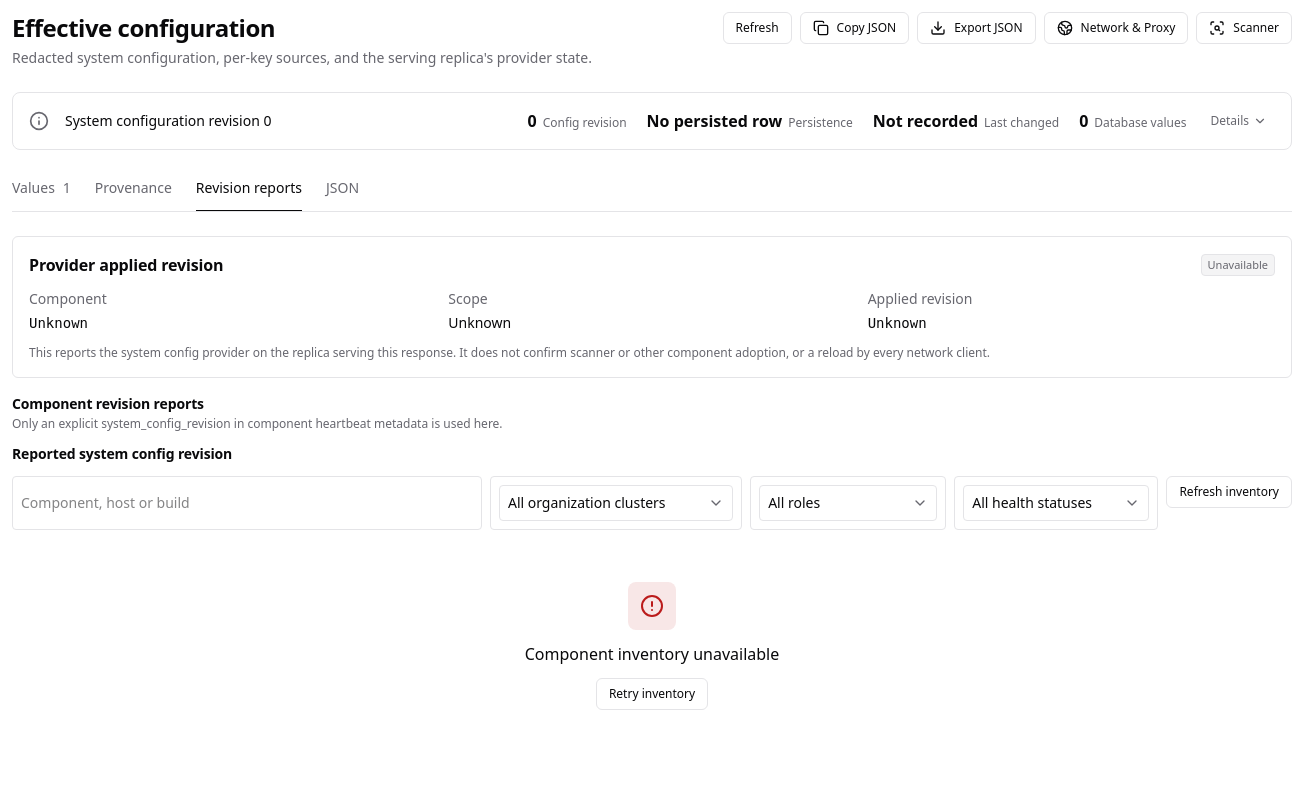
Scenario: reports missing provenance and failed component inventory as unknown or unavailable
This screenshot has width=1304, height=812.
Expected: the element with test id "effective-config-provider-applied" shows "Unavailable", [1208,257,1268,272]
Expected: the element with test id "effective-config-applied-revisions" shows "unavailable", [525,643,779,665]
Press the mouse on the tab "Provenance" at (133, 193), box [95,174,172,212]
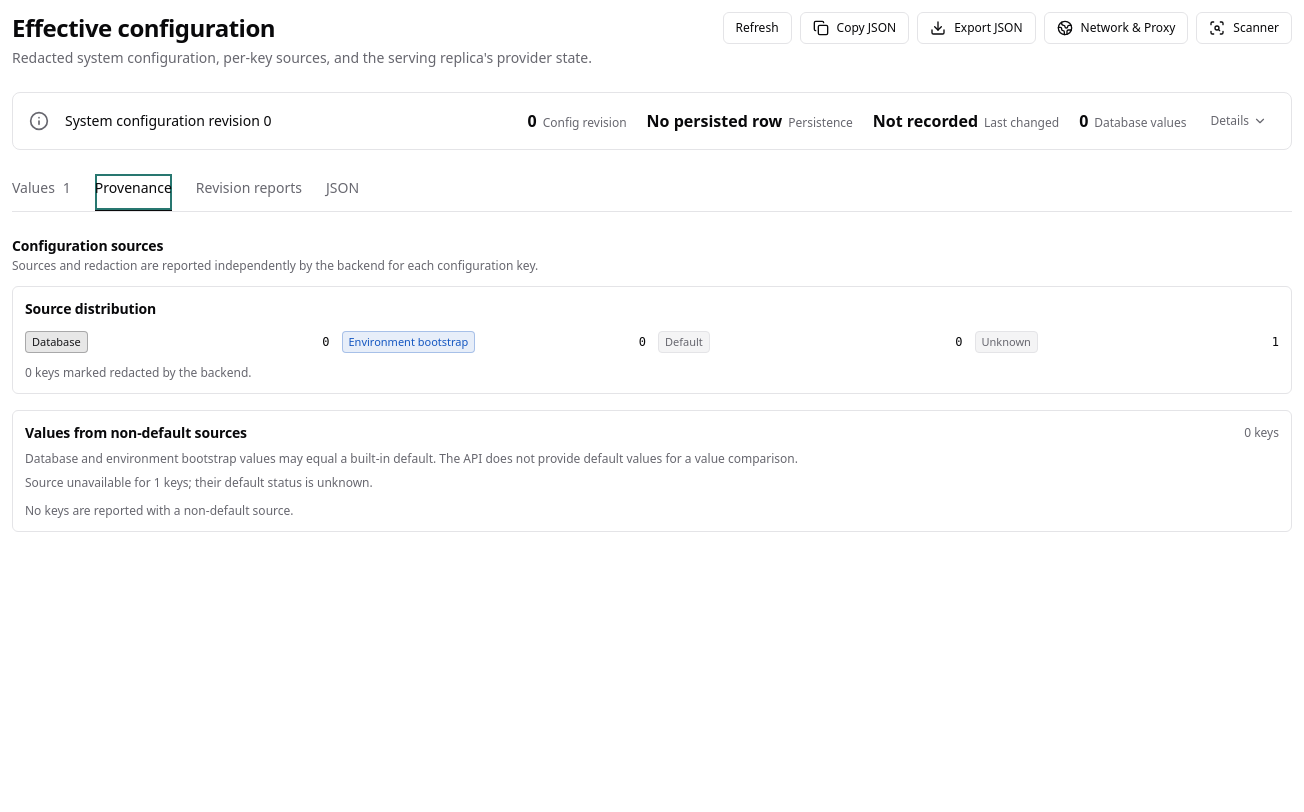
Expected: the element with test id "effective-config-source-summary" shows "Unknown", [982,334,1031,349]
